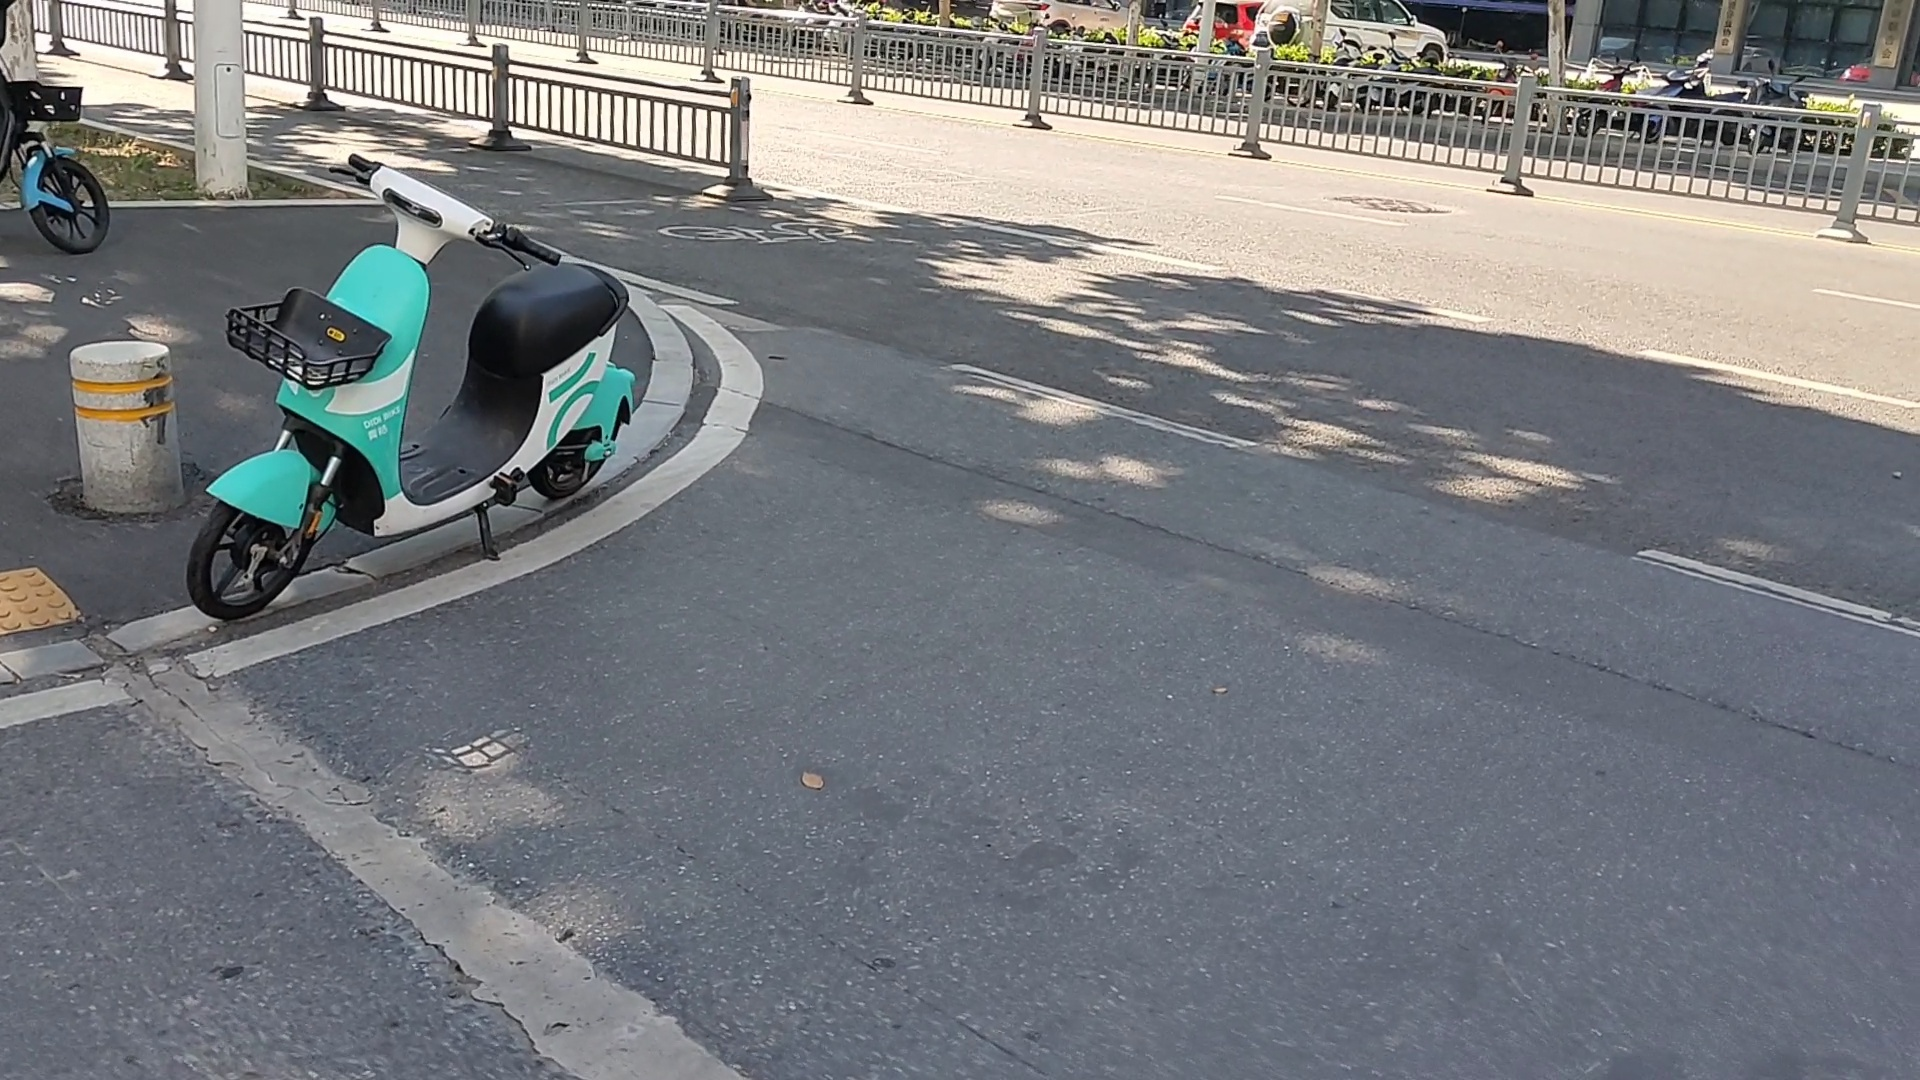non-vehicle: (177, 150, 651, 618), (0, 66, 111, 251)
